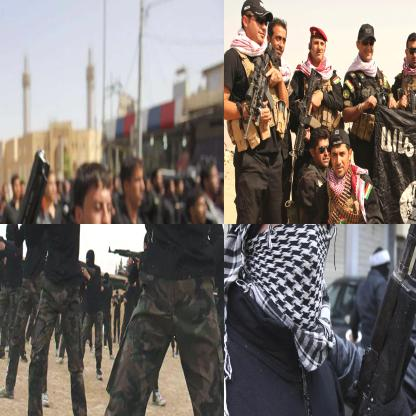pistol: (0, 146, 61, 223)
rifle: (344, 224, 415, 415), (242, 42, 284, 146), (287, 67, 323, 185), (104, 246, 147, 269), (402, 80, 415, 121), (0, 229, 16, 260)
